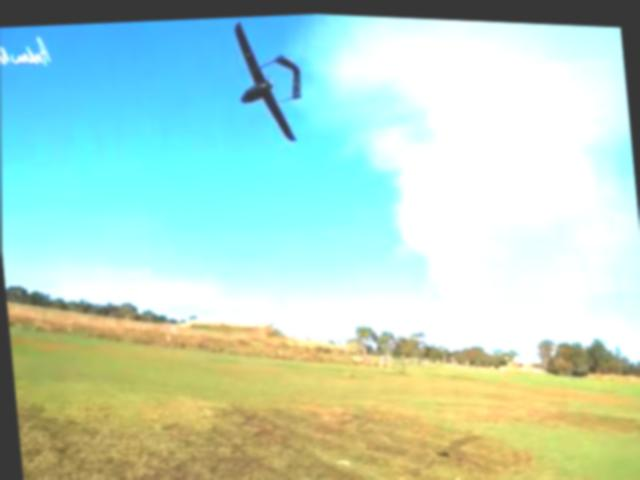uav: (218, 11, 312, 150)
